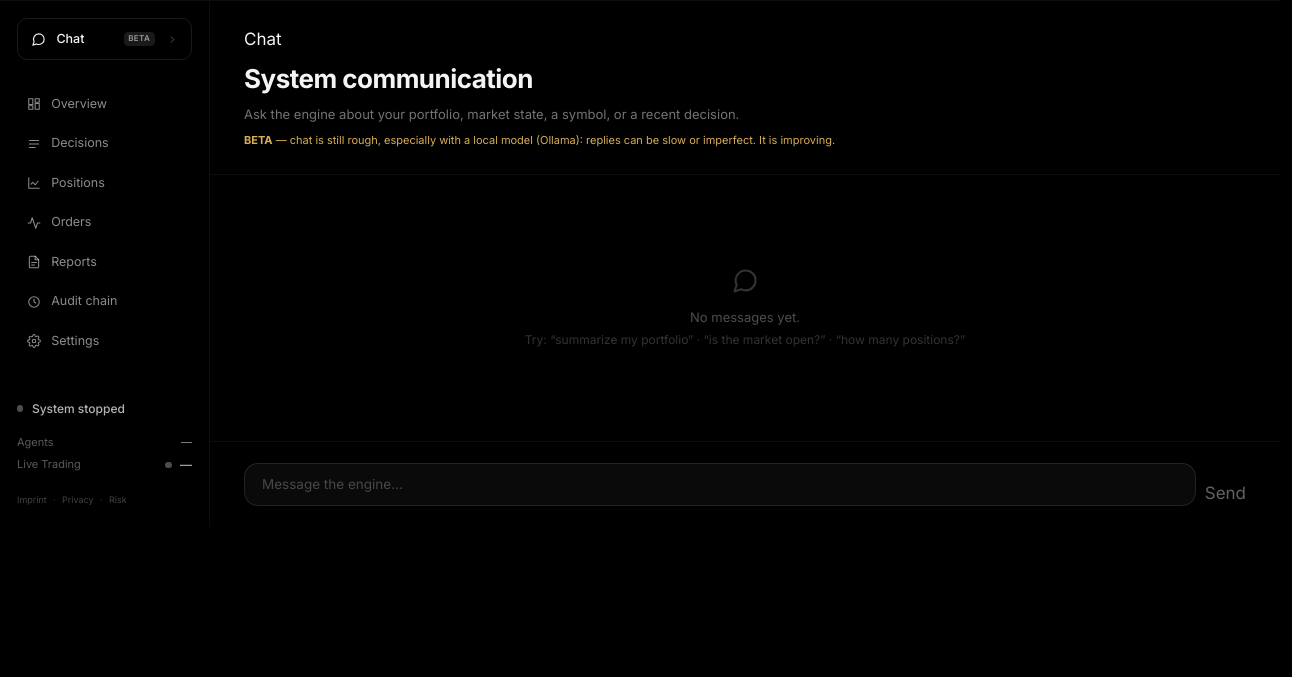
Test case: Journey · Settings (engine lifecycle & safety) › an engine error surfaces with its diagnostic detail
The image size is (1292, 677).
Click the button "Settings": (105, 341) [13,322,196,360]
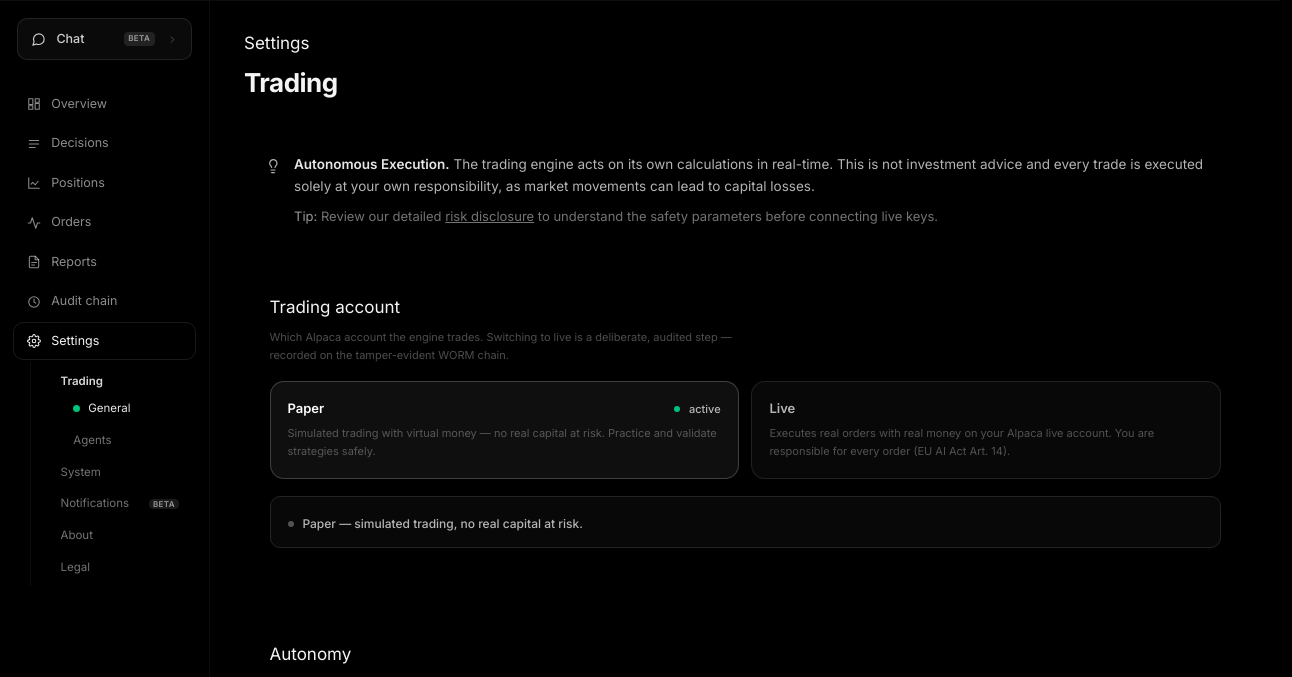
Click the button "System": (120, 472) [48,457,192,487]
(page scrolled)
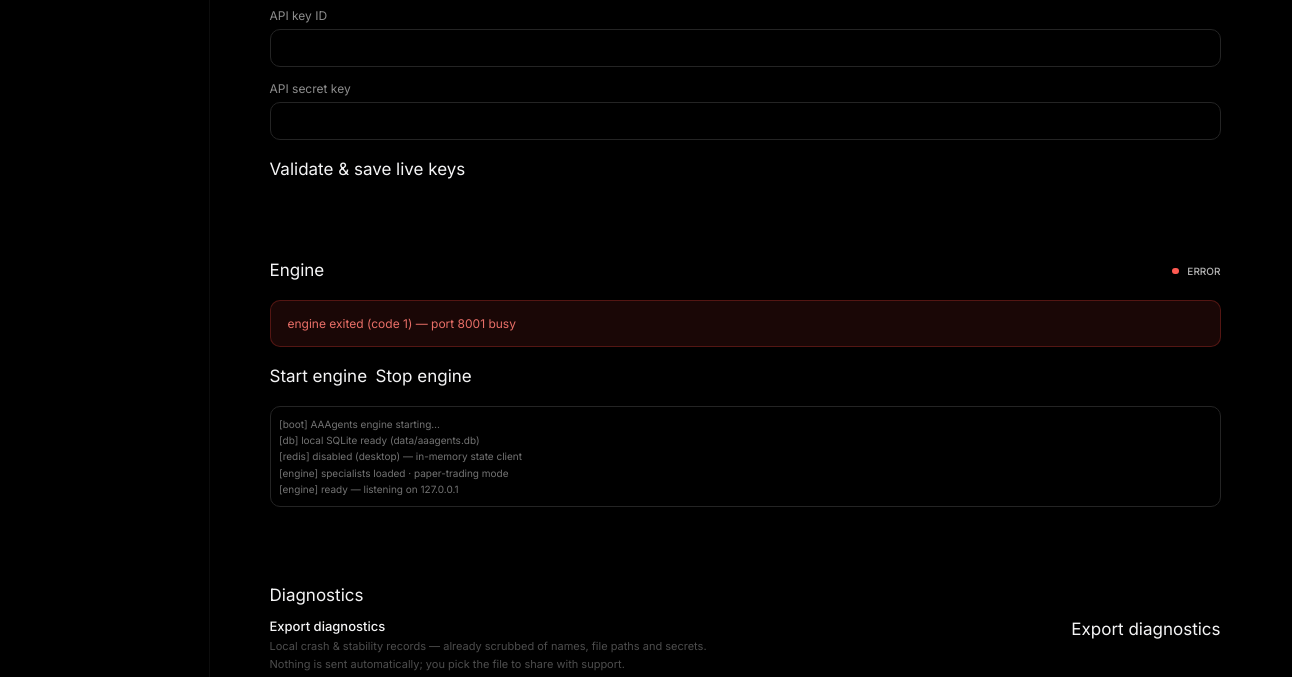
Expected: the text "engine exited (code 1) — port 8001 busy" is shown, [288,314,516,334]
